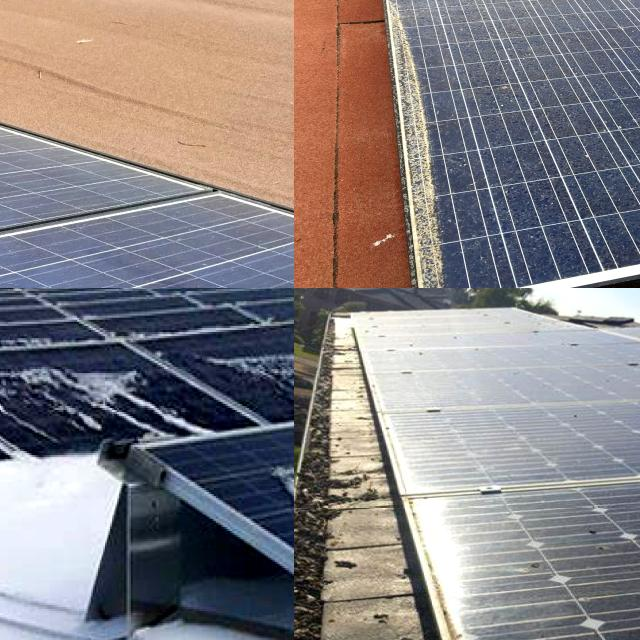bird: (570, 508, 636, 566), (510, 548, 560, 590)
dust: (465, 131, 640, 244), (429, 13, 640, 102), (151, 220, 268, 288), (378, 0, 531, 48), (0, 231, 126, 288), (406, 20, 431, 288)
panel: (0, 336, 162, 399), (214, 335, 294, 413), (118, 415, 204, 465)
